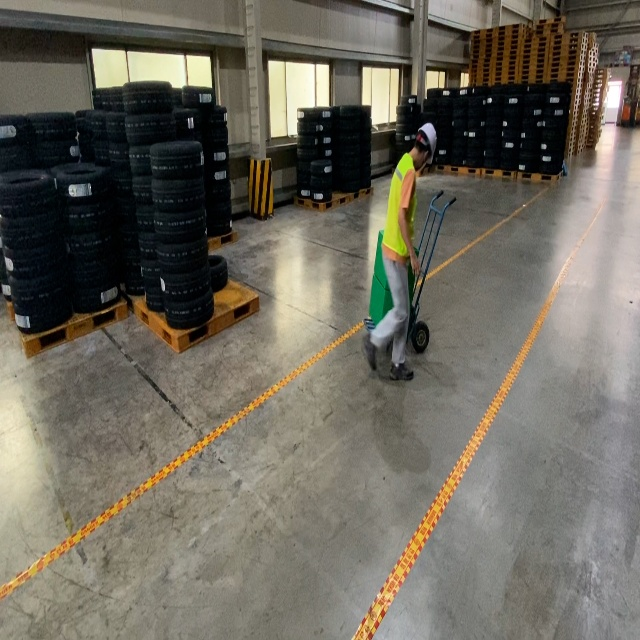Worker: (362, 122, 437, 381)
